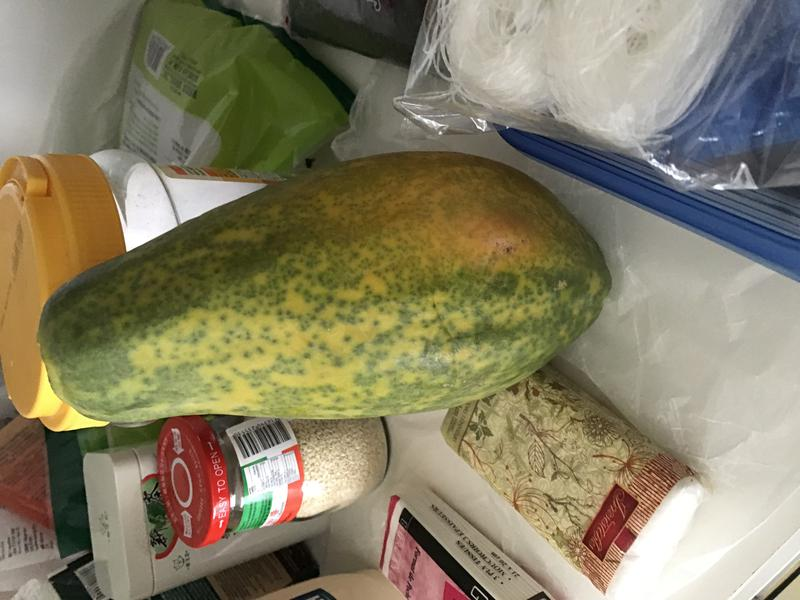papaya: (24, 140, 624, 433)
